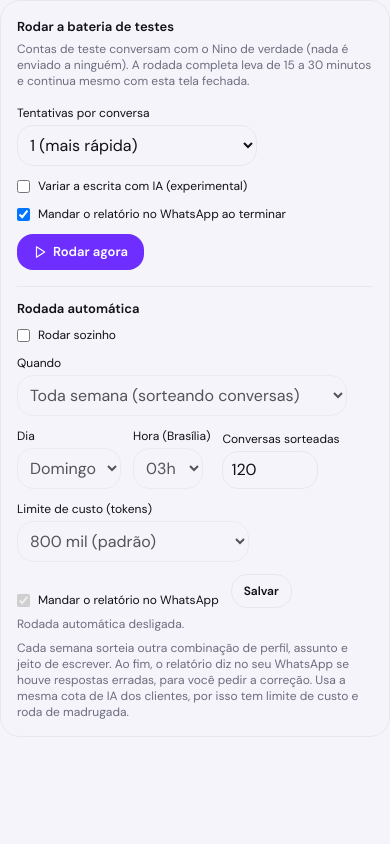
painel da rodada: semanal com relatório › trocar para 'a cada tantas horas' mostra o intervalo e esconde o sorteio
Select "A cada tantas horas (bateria completa)" in the dropdown showing "Toda semana (sorteando conversas)": (182, 396) [17,375,347,416]
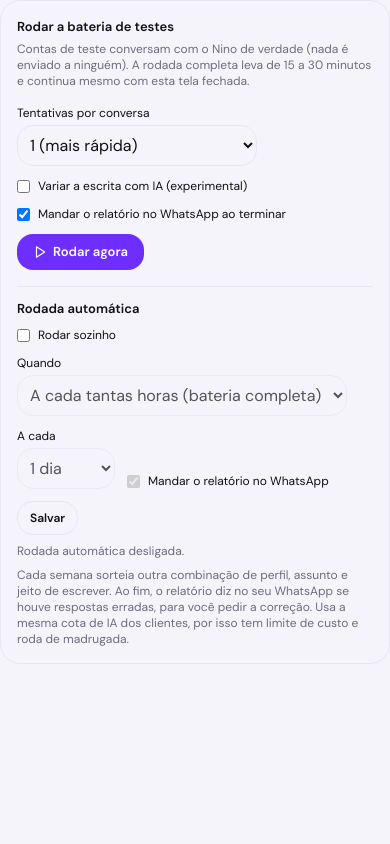
Check: the label labelled "Conversas sorteadas" is gone
Check: the text "A cada" is shown, box [17,428,115,489]
